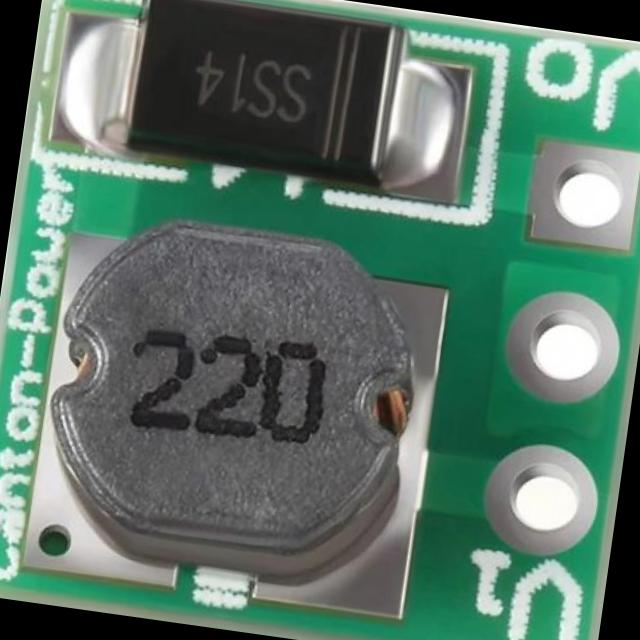diode: (87, 0, 446, 188)
